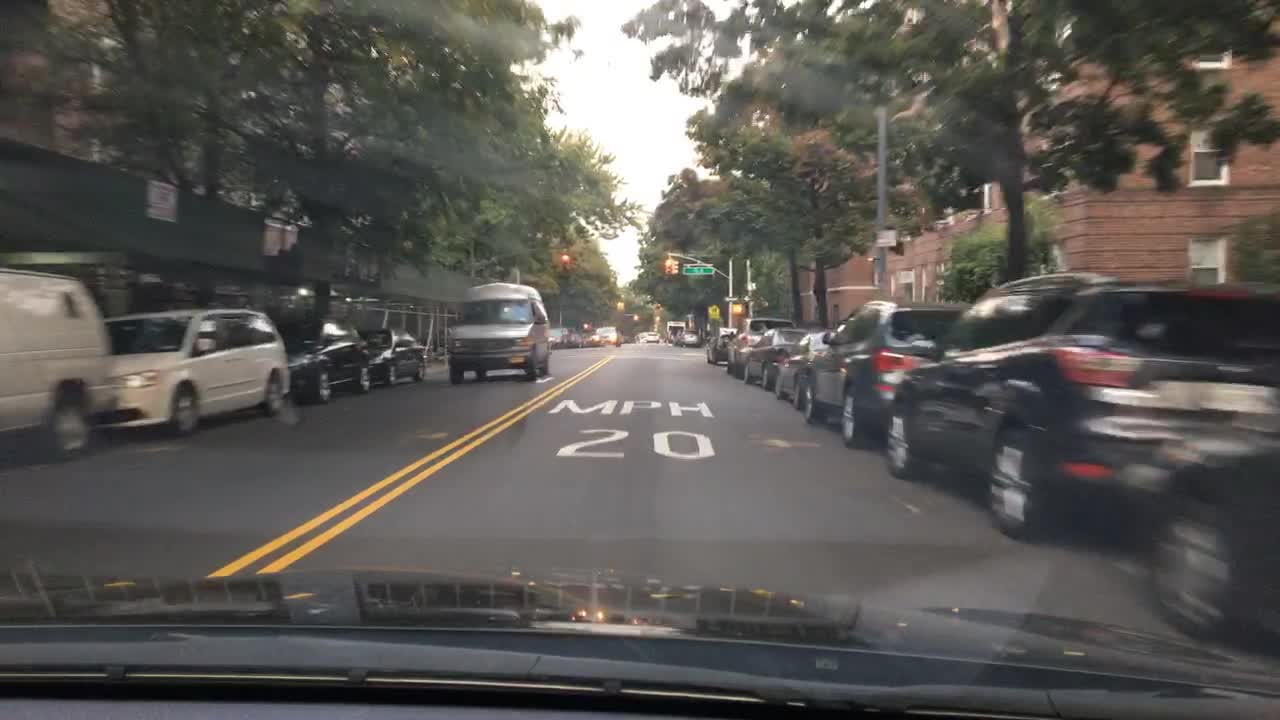car: (885, 267, 1277, 545), (1141, 435, 1278, 649), (805, 296, 990, 449), (104, 301, 296, 436), (0, 263, 117, 466), (448, 283, 553, 383), (282, 315, 377, 399), (772, 335, 855, 407), (742, 323, 824, 390), (725, 315, 795, 380), (358, 325, 429, 385), (701, 333, 727, 364), (635, 328, 661, 341), (677, 330, 698, 346)
traffic light: (595, 320, 624, 346), (550, 322, 576, 346), (560, 249, 575, 269), (665, 257, 677, 273)
traffic sign: (147, 178, 177, 225), (682, 263, 717, 276), (743, 280, 758, 290)
